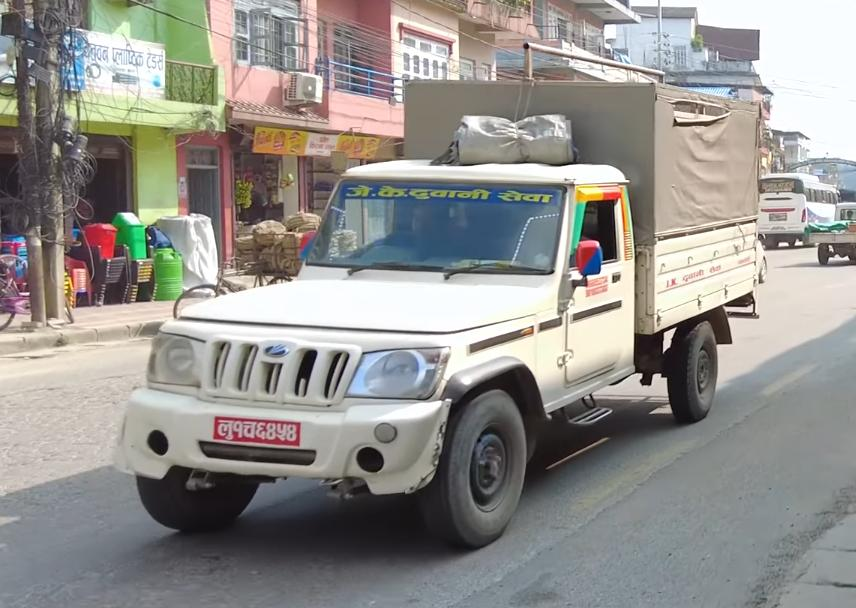bus: (752, 170, 846, 250)
transport_vehicle: (112, 71, 767, 556)
